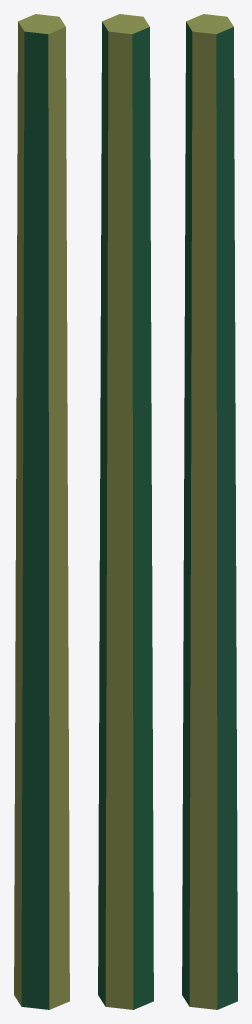
File: gear_blowgun.glb
3 views of the same model, side by side, from view 1: azimuth 90°, elevation 25°; view 2: azimuth 150°, elevation 25°; view 3: azimuth 270°, elevation 25° (orthographic).
Visible parts, largest first — view 1: gear_blowgun; view 2: gear_blowgun; view 3: gear_blowgun.
Part boxes in pixels (x1,y1,x2,y2): gear_blowgun: (14, 14, 69, 1009); gear_blowgun: (98, 14, 153, 1009); gear_blowgun: (182, 14, 237, 1009).
Size of the model in its own units: 0.0406 by 0.78 by 0.0406.
